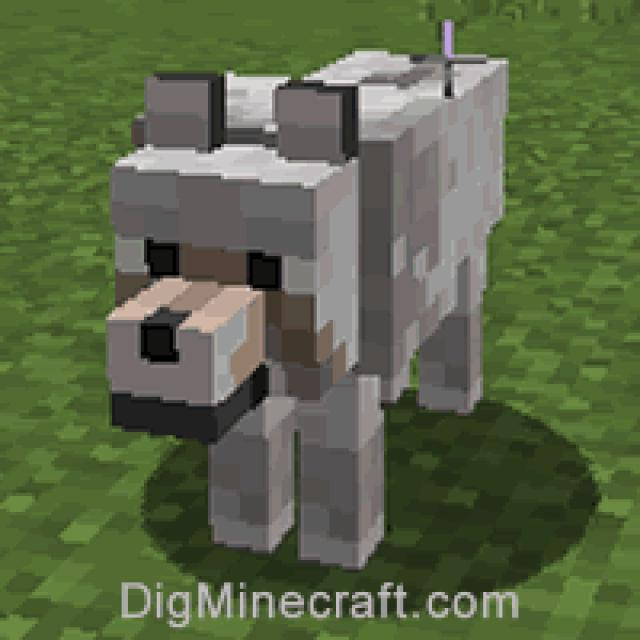Wolf: (102, 48, 509, 570)
